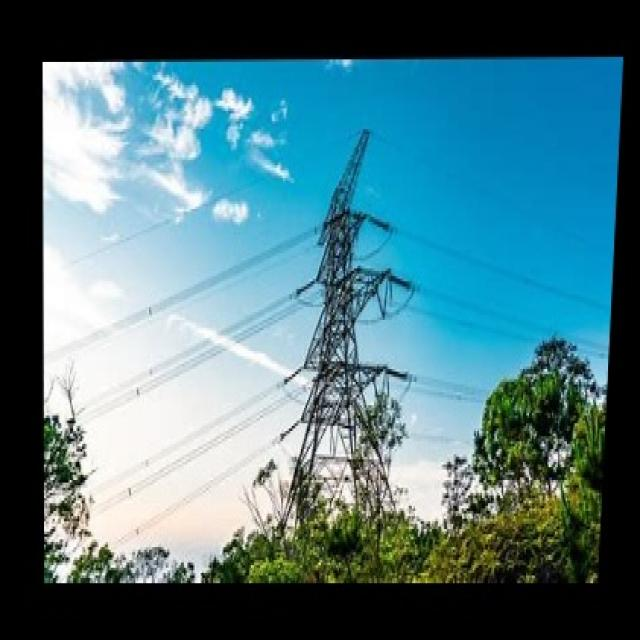utility poles: (459, 310, 575, 489), (322, 330, 418, 510)
